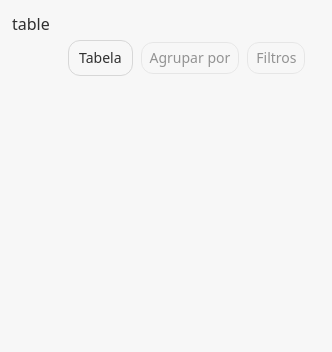
Test: DatabaseViewToolbar › troca o tipo atual por seleção única com icon-label
Click the dropdown named "Tipo de visualização" at x=100, y=58, box [68,40,132,76]
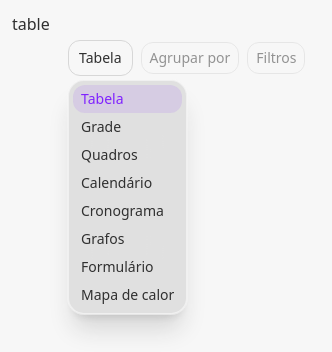
Click the option "Grade" at x=101, y=126, box [81,117,121,136]
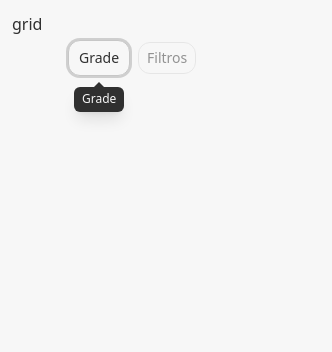
Expected: the text with test id "view-kind" reads "grid", [12,13,42,35]
Expected: the dropdown named "Tipo de visualização" reads "Grade", [68,40,130,76]
